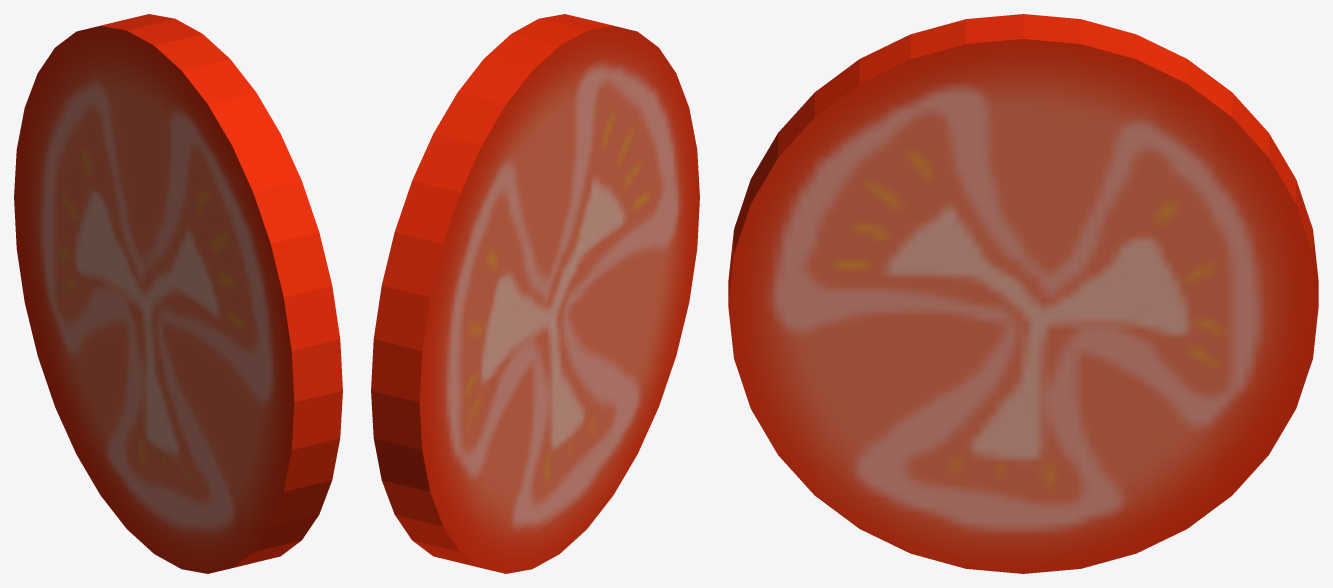
The model's file is Tomato.fbx.
The picture shows the model from 3 angles, left to right: view 1: azimuth 30°, elevation 25°; view 2: azimuth 150°, elevation 25°; view 3: azimuth 270°, elevation 25°; orthographic projection. The views are drawn at different scales.
Parts seen in each view (by area): view 1: Tomato; view 2: Tomato; view 3: Tomato.
Part boxes in pixels (x1,y1,x2,y2): Tomato: (14,14,342,573); Tomato: (371,14,699,573); Tomato: (728,14,1318,573).
Size of the model in its own units: 20 by 200 by 200.
